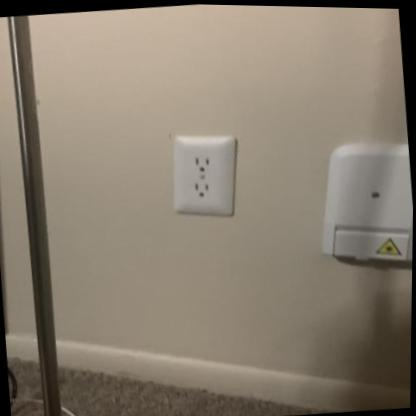OUTLET: (167, 131, 239, 222)
